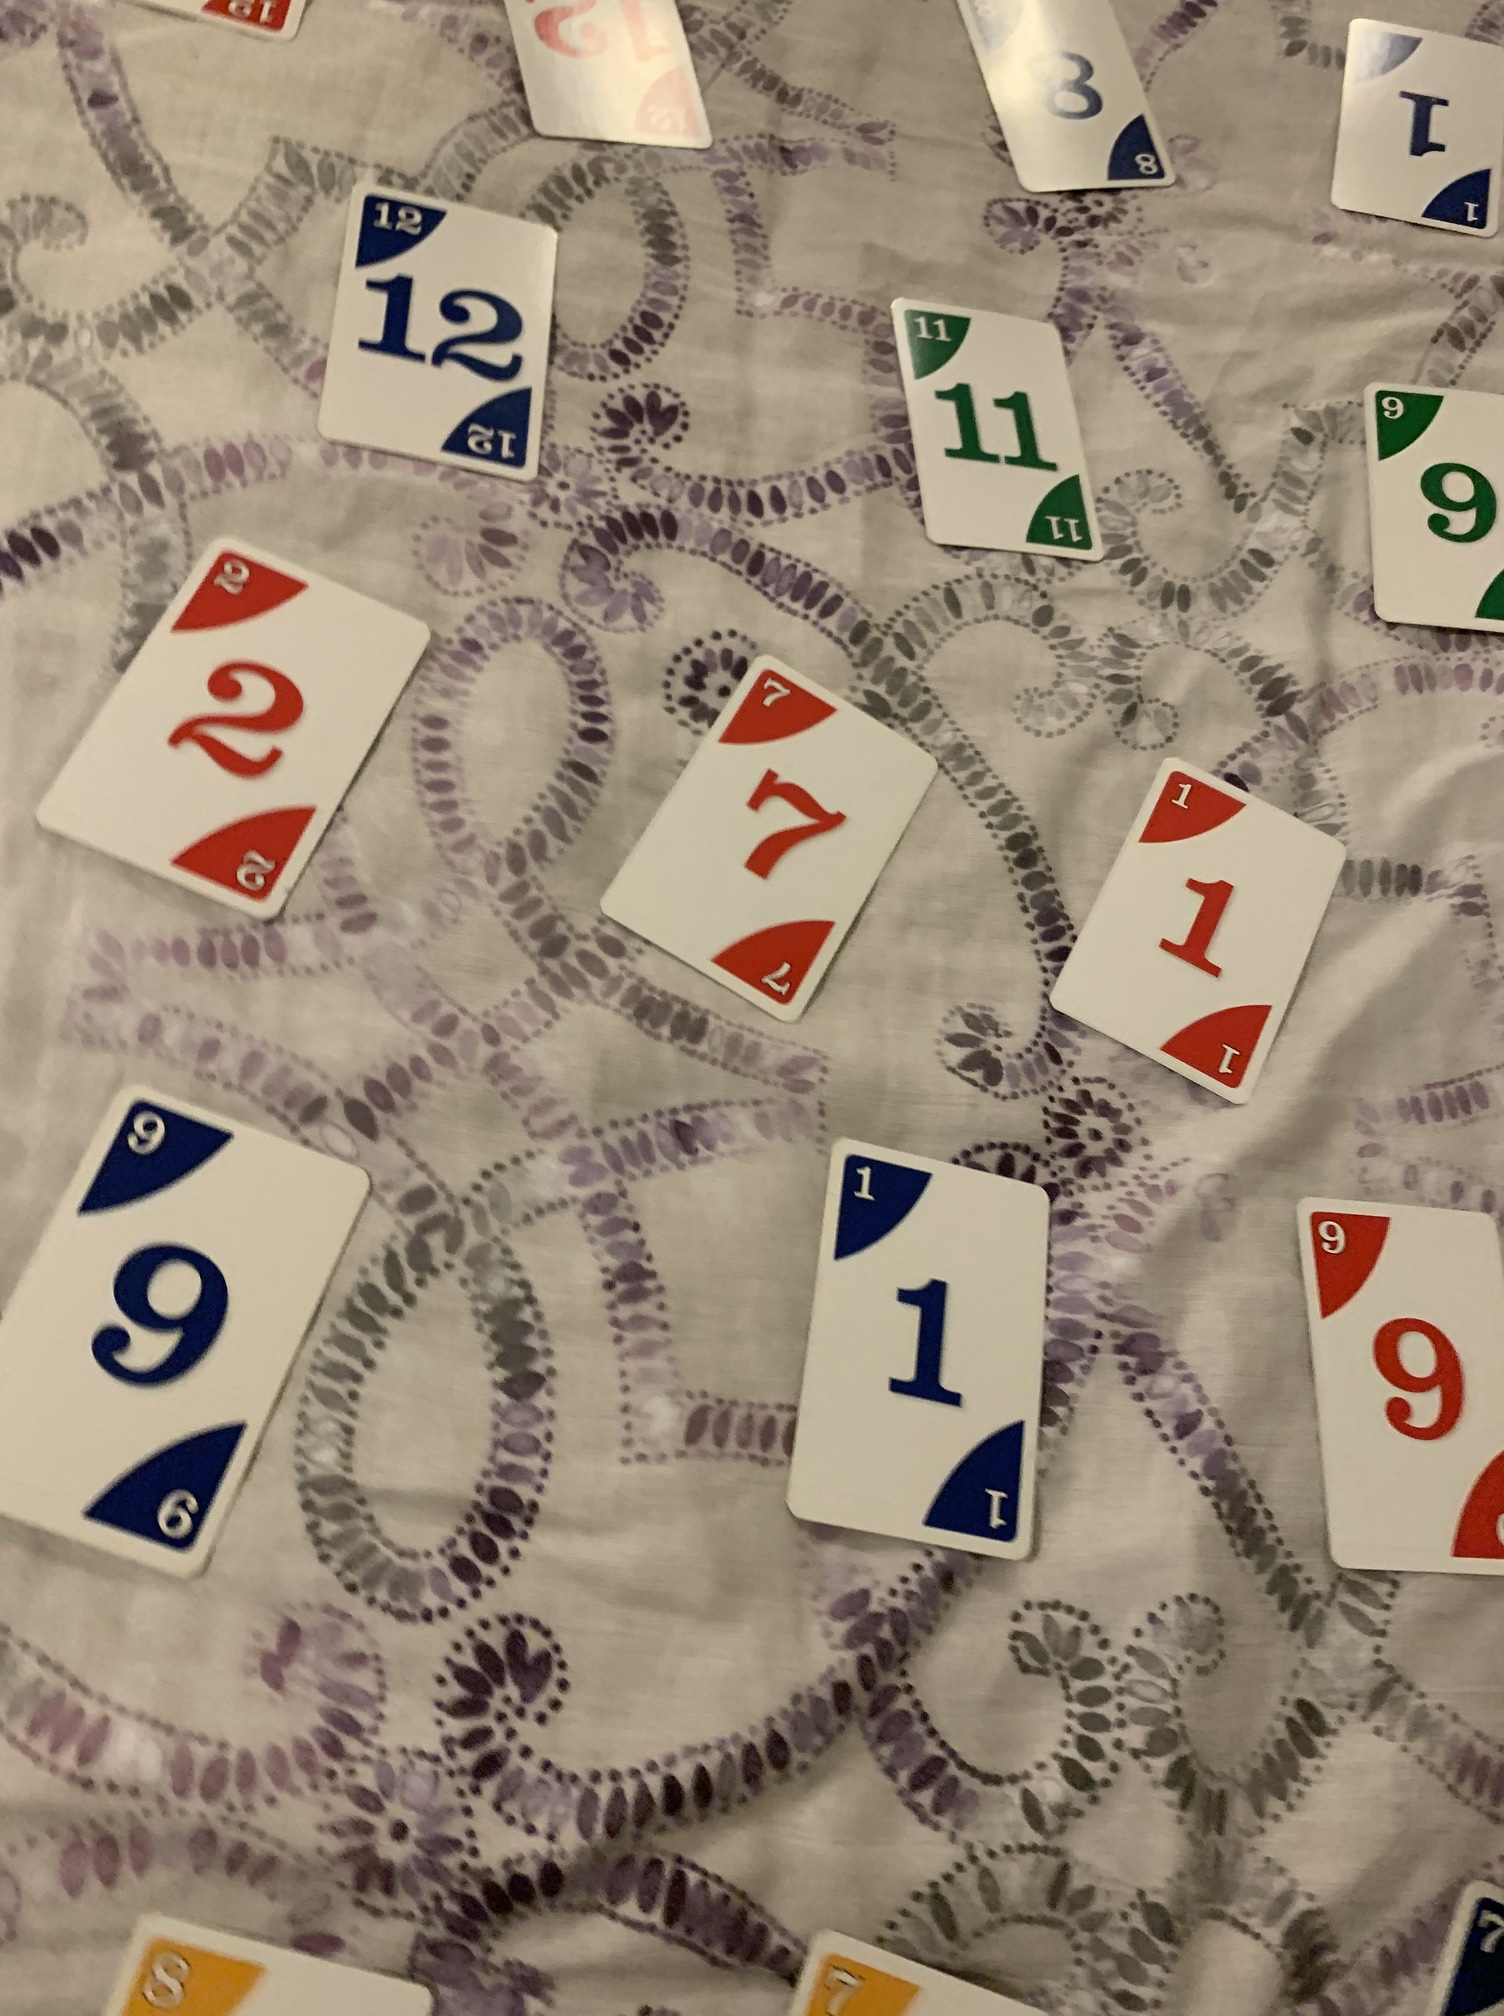eight: (951, 2, 1183, 190)
eleven: (885, 292, 1103, 570)
nine: (5, 1073, 381, 1585), (1289, 1191, 1504, 1582), (1355, 374, 1504, 640)
one: (779, 1134, 1054, 1578), (1040, 752, 1357, 1114), (1314, 16, 1504, 242)
seven: (597, 653, 945, 1022)
twelve: (310, 183, 567, 491)
two: (28, 536, 439, 931)
